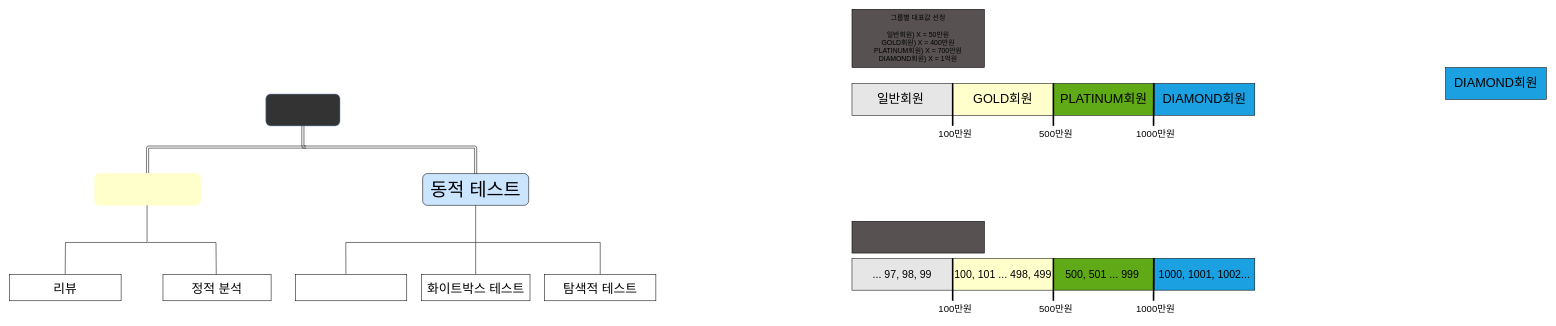
The diagram is 1556 pixels wide and 326 high, and some of its shapes have lost their labels. The shapes that lost their labels are listed below. From the top down, each one's centre as x and y in pixels, then its label:
point (302, 110): 테스트
point (147, 189): 정적 테스트
point (917, 237): 예) GOLD회원 경계값 X) = 99, 100, 499, 500
point (351, 287): 블랙박스 테스트
